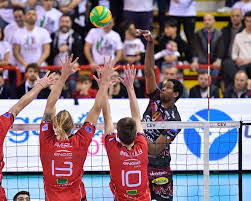ball: (89, 4, 113, 28)
